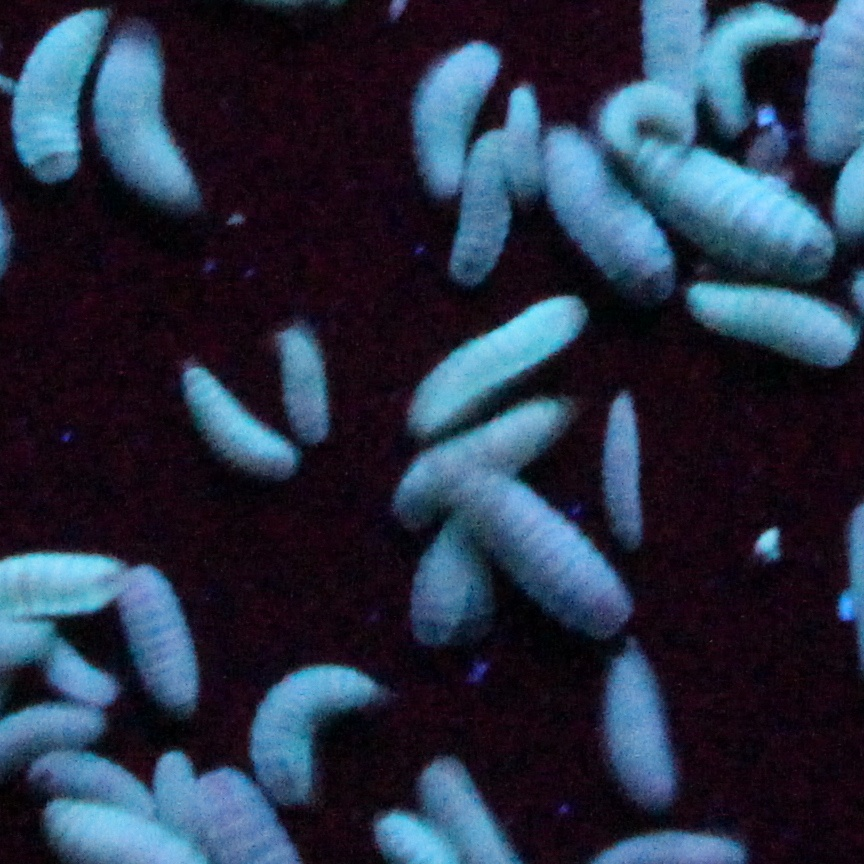larve: (598, 96, 828, 276), (446, 472, 625, 632), (411, 291, 590, 433), (534, 124, 668, 281), (401, 398, 559, 511), (261, 654, 378, 794), (8, 5, 102, 166), (171, 358, 299, 476), (101, 30, 180, 210), (110, 565, 198, 720), (686, 276, 848, 360), (604, 646, 677, 799), (419, 503, 485, 653), (450, 139, 517, 285), (428, 41, 491, 188), (592, 73, 706, 147), (35, 741, 148, 812), (586, 385, 637, 542), (282, 325, 328, 444), (34, 639, 135, 691), (494, 82, 544, 187)
